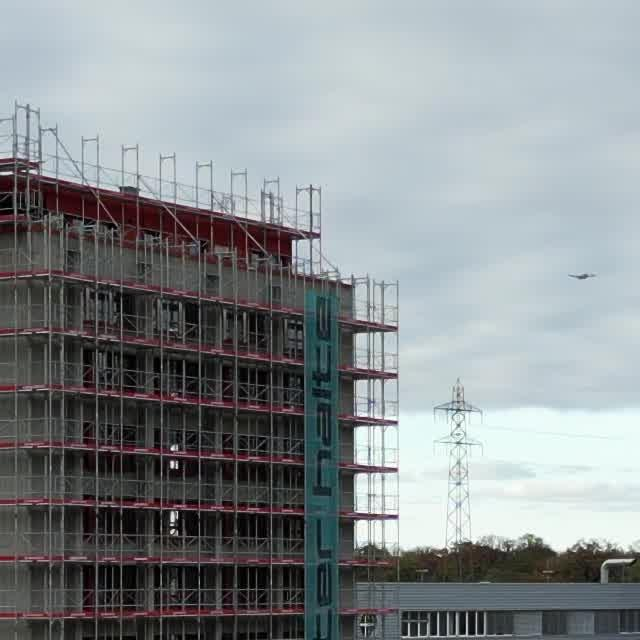Drohne: (568, 273, 595, 279)
